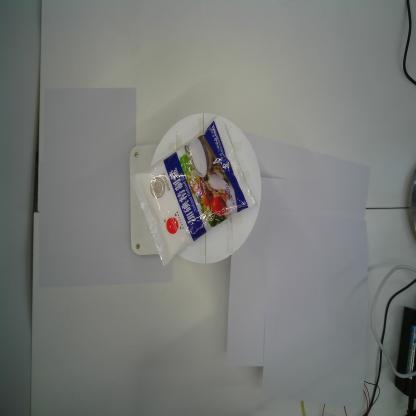Seasoner: (131, 115, 256, 268)
